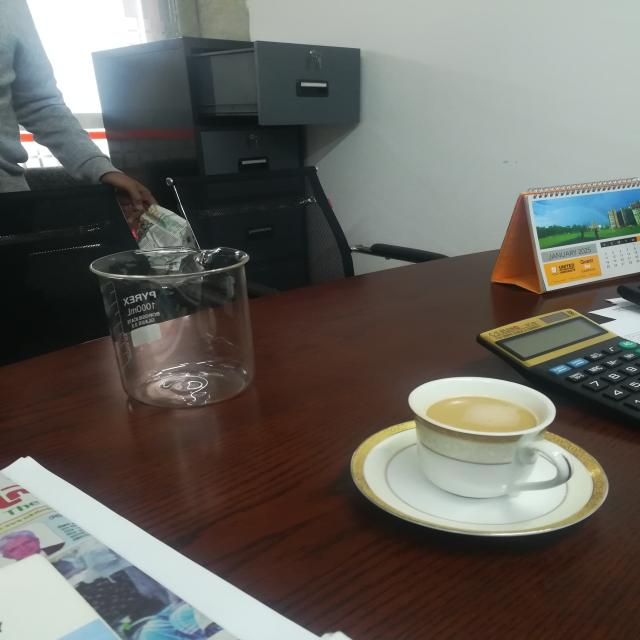Beaker: (45, 218, 308, 434)
